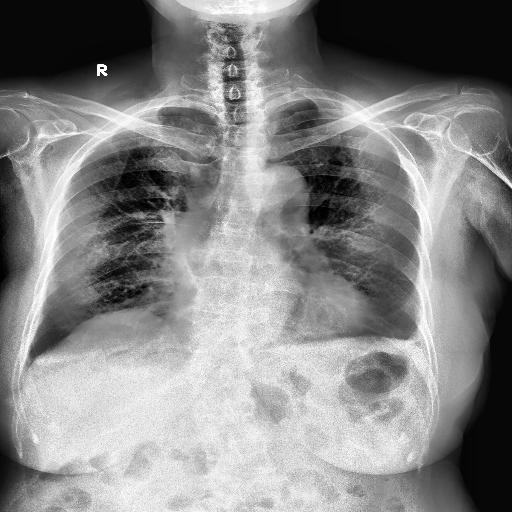0- Aortic enlargement: (242, 166, 310, 224), (262, 162, 309, 234), (265, 164, 308, 198)
10- Pleural effusion: (397, 326, 433, 354)
11- Pleural thickening: (397, 326, 433, 354)
13- Pulmonary fibrosis: (92, 189, 143, 219)
3- Cardiomegaly: (176, 261, 374, 339), (164, 288, 388, 335), (168, 289, 370, 339)
8- Nodule-Mass: (188, 164, 201, 178)
